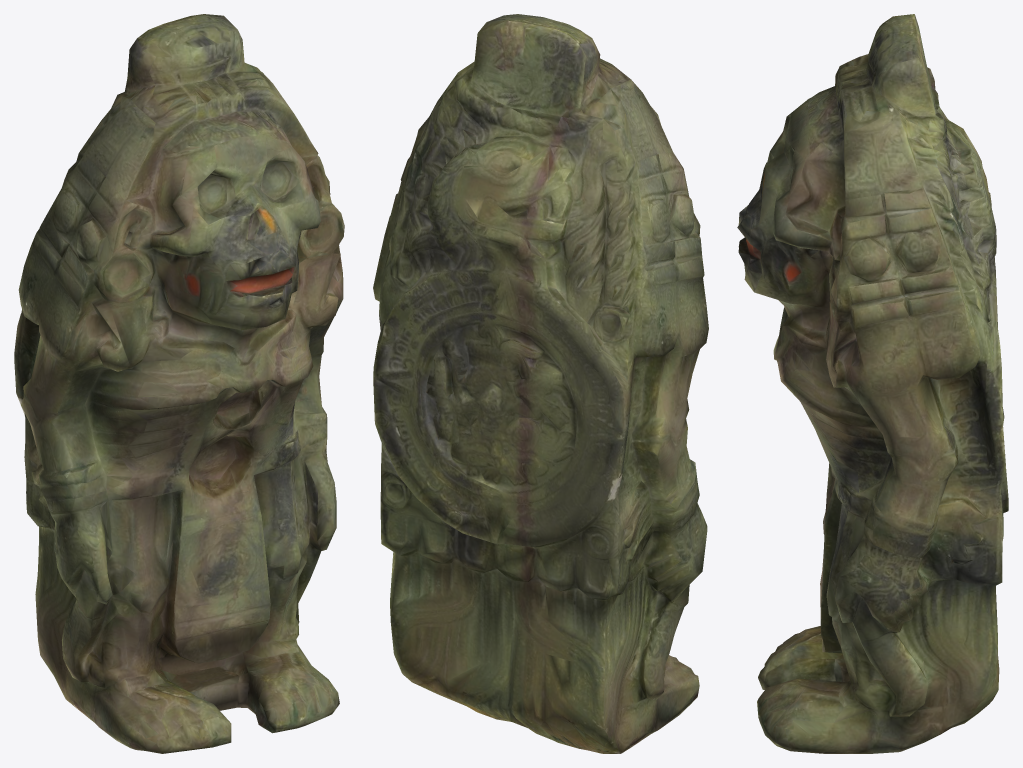
File: effigy.gltf
3 views of the same model, side by side, from view 1: azimuth 30°, elevation 25°; view 2: azimuth 150°, elevation 25°; view 3: azimuth 270°, elevation 25° (orthographic). The views are drawn at different scales.
Parts seen in each view (by area): view 1: effigy; view 2: effigy; view 3: effigy.
Boxes of the visible parts, x1,y1,x2,y2 form: effigy: [14, 14, 344, 753]; effigy: [373, 14, 708, 753]; effigy: [737, 14, 1008, 753].
Size of the model in its own units: 0.8341 by 1.9 by 0.6861.
Materials: 1 (1 with a texture image).
